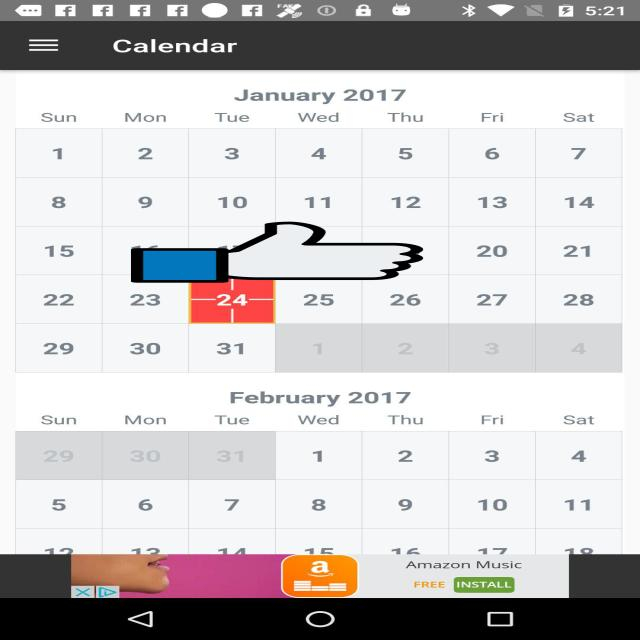privacy zuckering: (131, 220, 423, 284)
